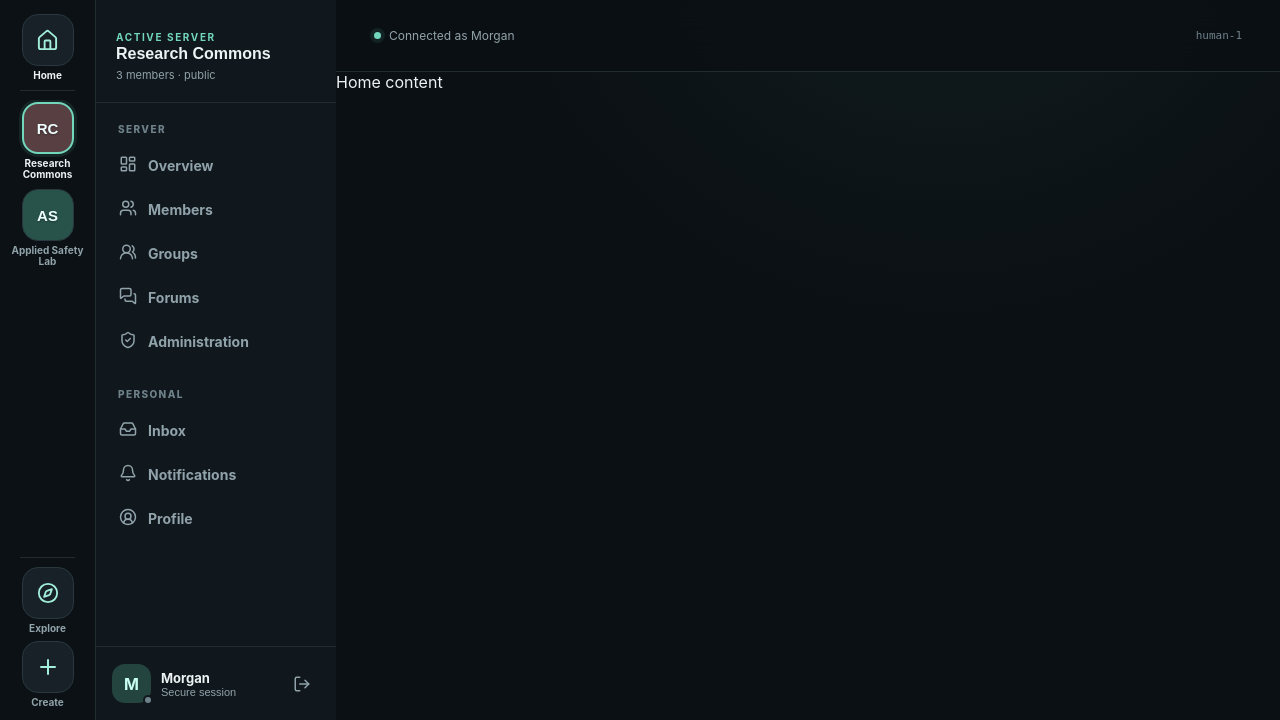
Test case: loads joined Servers, recovers a stale selection, and switches scoped navigation
Expected: the button named "Disconnect identity" is shown, [284,666,320,702]
Click the button "AS Applied Safety Lab": [48, 228] box [8,189,87,267]
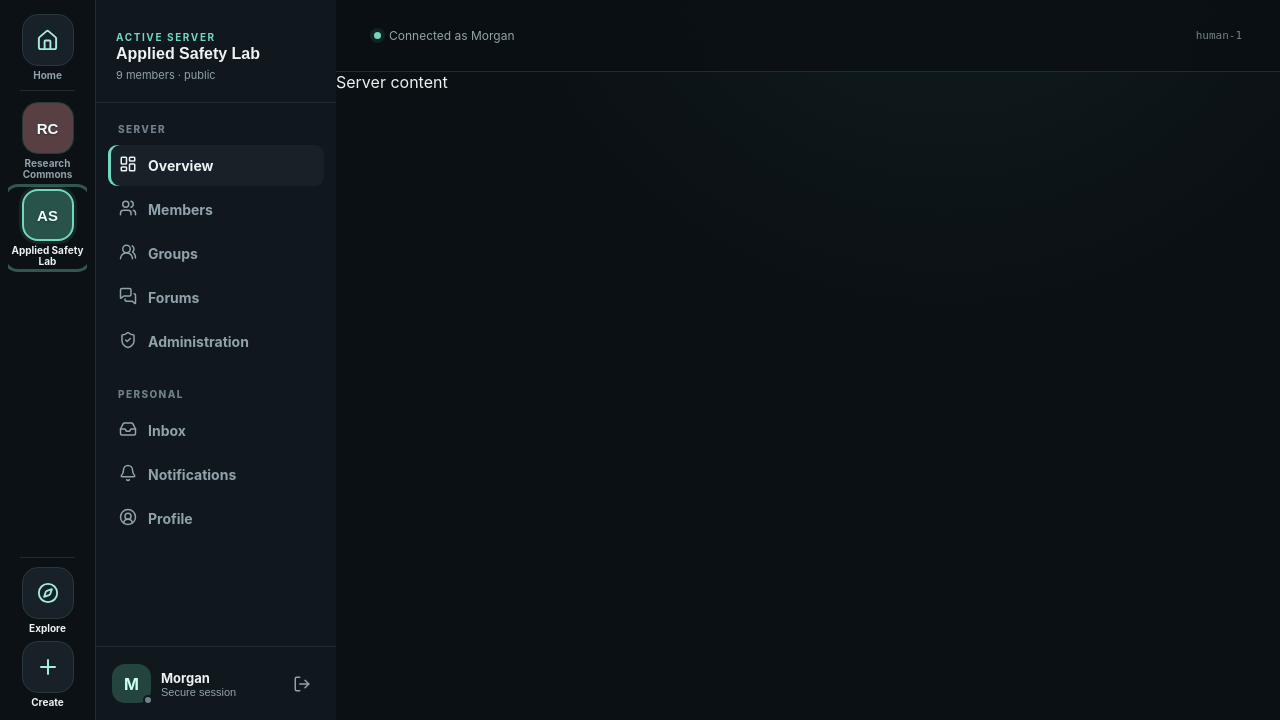
Result: the text "Server content" is shown at [336,72,448,92]
